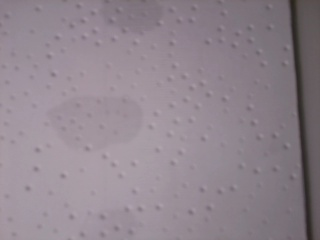Water_detected: (52, 93, 133, 157), (81, 201, 134, 238), (94, 0, 144, 21)
